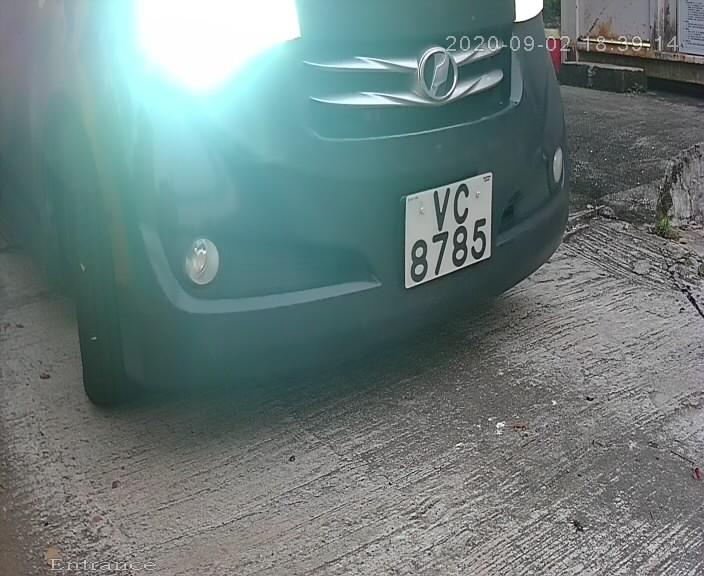License Plate: (397, 168, 497, 296)
